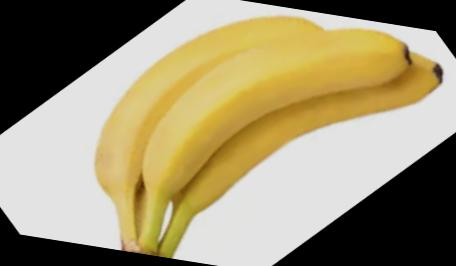Banana Ripe: (49, 0, 456, 266)
